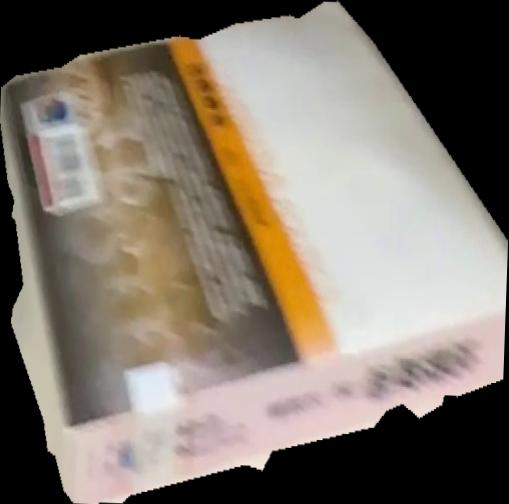flat: (1, 1, 509, 504)
